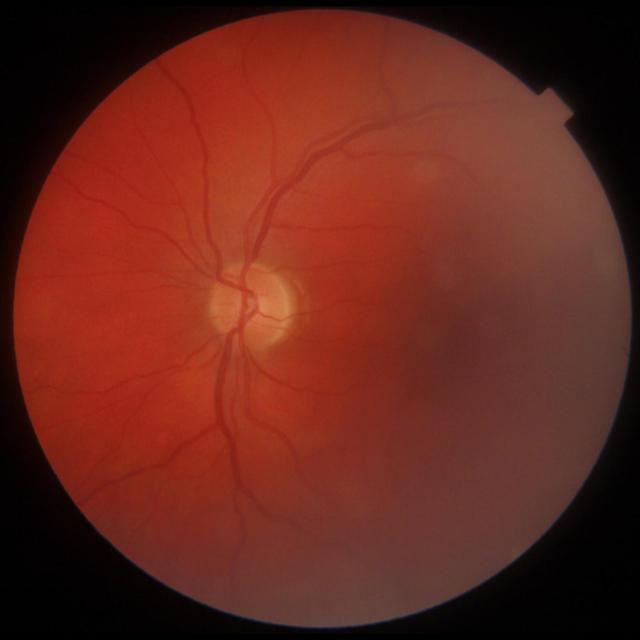OC: (241, 292, 268, 320)
OD: (208, 265, 290, 352)
